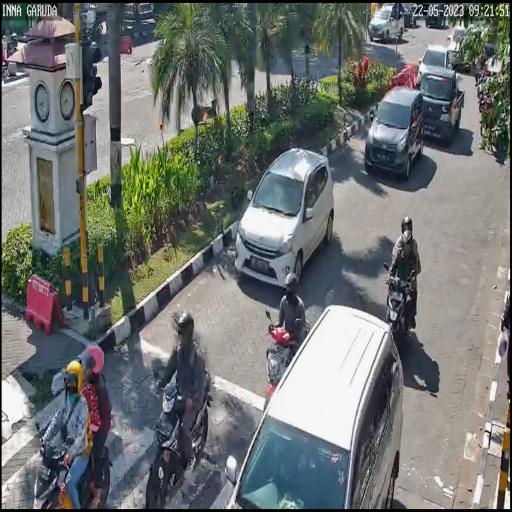mobil: (232, 304, 416, 512), (234, 147, 341, 299), (365, 83, 426, 189), (420, 64, 466, 146)
motor: (130, 356, 220, 511), (23, 416, 121, 512), (262, 298, 302, 407), (379, 248, 423, 344)
